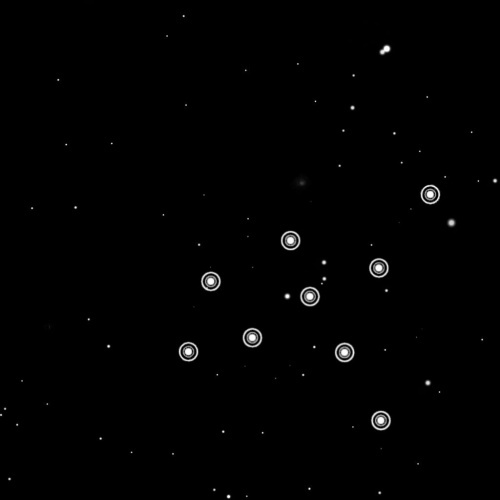cygnus: (172, 178, 443, 436)
